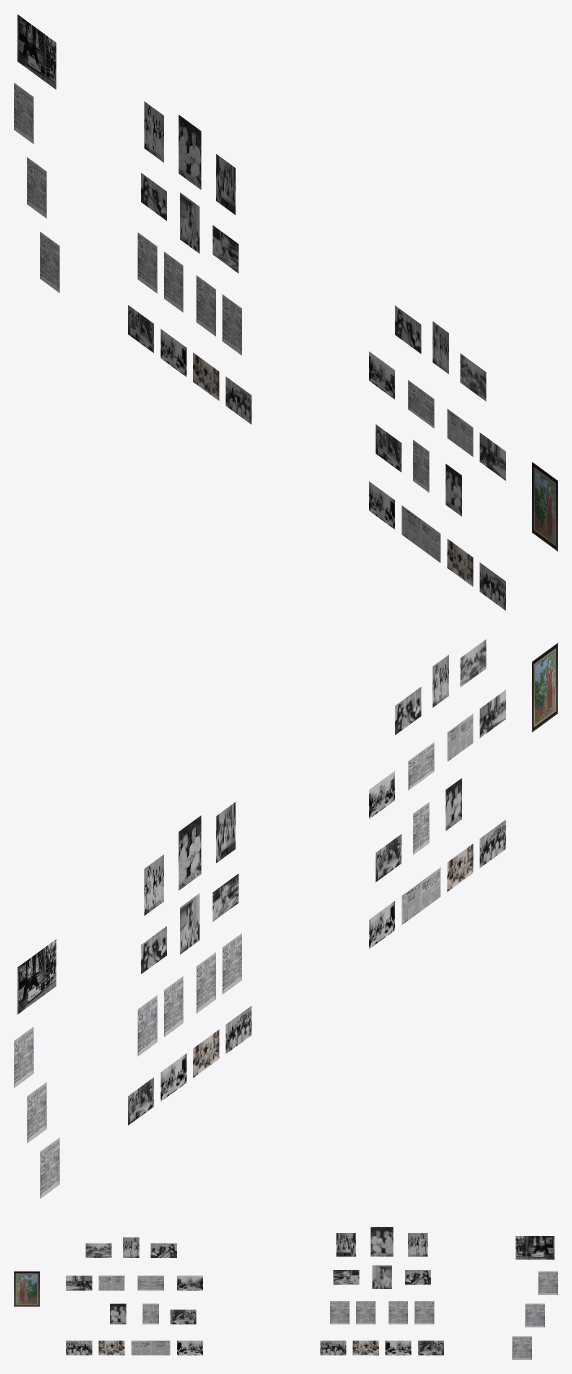
The model's file is Bac_Ho_voi_mien_Nam_BC.glb.
3 views of the same model, one above another, from view 1: azimuth 30°, elevation 25°; view 2: azimuth 150°, elevation 25°; view 3: azimuth 270°, elevation 25° (orthographic). The views are drawn at different scales.
Parts seen in each view (by area): view 1: Plane.019, Plane.030, Plane.032, Plane.013, Plane.028, Plane.016, Plane.021, Plane.014, Plane.022, Plane.023, Plane.025, Plane.027 (+18 smaller); view 2: Plane.019, Plane.030, Plane.032, Plane.013, Plane.028, Plane.014, Plane.027, Plane.022, Plane.023, Plane.029, Plane.031, Plane.016 (+21 smaller); view 3: Plane.019, Plane.030, Plane.032, Plane.013, Plane.028, Plane.031, Plane.027, Plane.016, Plane.022, Plane.014, Plane.023, Plane.025 (+21 smaller).
Part boxes in pixels (x1,y1,x2,y2): Plane.019: (17, 14, 56, 89); Plane.030: (532, 462, 557, 551); Plane.032: (178, 115, 201, 189); Plane.013: (401, 505, 440, 562); Plane.028: (137, 232, 157, 293); Plane.016: (222, 294, 241, 355); Plane.021: (164, 251, 183, 312); Plane.014: (180, 192, 199, 253); Plane.022: (144, 101, 163, 162); Plane.023: (196, 275, 215, 336); Plane.025: (216, 154, 235, 214); Plane.027: (14, 83, 33, 143); Plane.019: (17, 939, 56, 1014); Plane.030: (532, 643, 557, 732); Plane.032: (178, 815, 201, 890); Plane.013: (401, 867, 440, 924); Plane.028: (137, 995, 157, 1056); Plane.014: (180, 893, 199, 954); Plane.027: (14, 1027, 33, 1087); Plane.022: (144, 854, 163, 915); Plane.023: (196, 952, 215, 1013); Plane.029: (40, 1137, 59, 1198); Plane.031: (27, 1082, 46, 1143); Plane.016: (222, 933, 241, 994); Plane.019: (515, 1236, 554, 1259); Plane.030: (14, 1271, 39, 1306); Plane.032: (370, 1227, 393, 1256); Plane.013: (131, 1340, 170, 1355); Plane.028: (414, 1301, 434, 1324); Plane.031: (525, 1303, 544, 1327); Plane.027: (538, 1271, 557, 1294); Plane.016: (330, 1301, 349, 1324); Plane.022: (408, 1233, 427, 1256); Plane.014: (372, 1265, 391, 1288); Plane.023: (356, 1301, 375, 1324); Plane.025: (336, 1233, 355, 1256).
Size of the model in its own units: 0 by 2.25 by 8.35.
33 materials, 33 textured.
